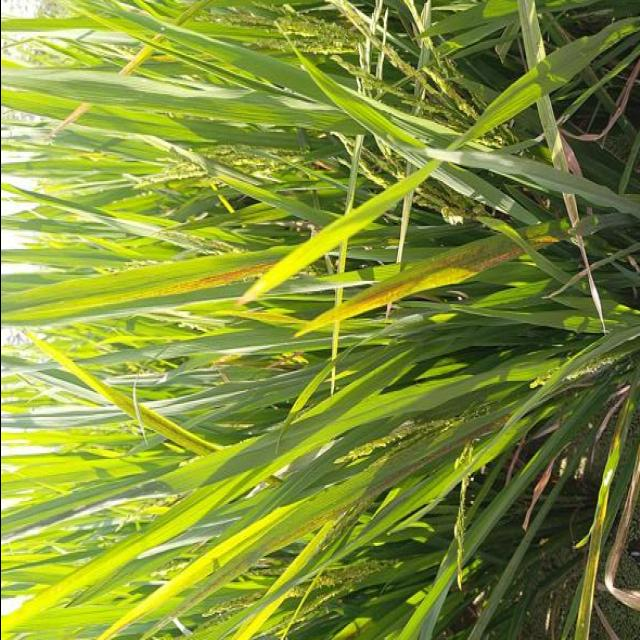Leaf Streak: (293, 233, 525, 339), (92, 262, 272, 304)
